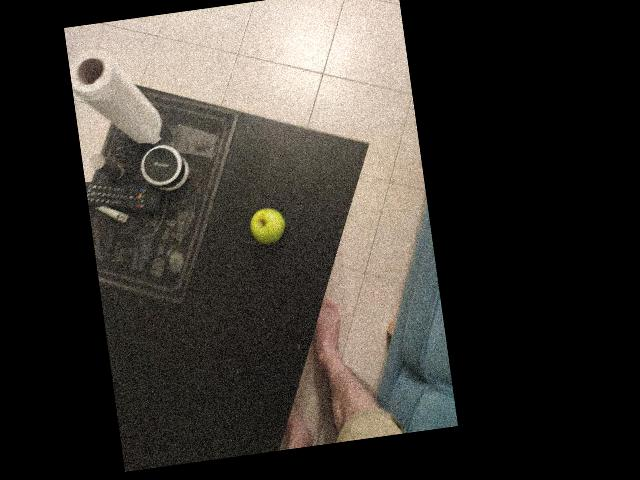apple: (283, 131, 344, 183)
